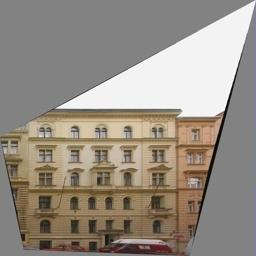building: (2, 105, 179, 255)
